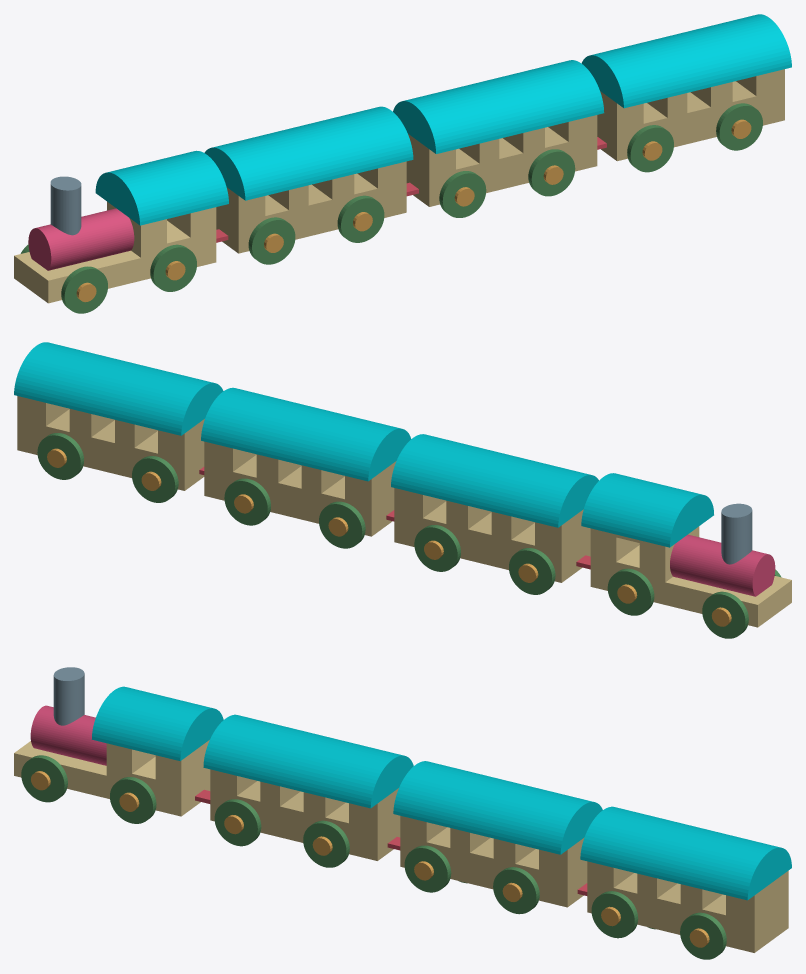
File: 3D TRAIN.glb
3 renders of one model, top to bottom at view 1: azimuth 30°, elevation 25°; view 2: azimuth 150°, elevation 25°; view 3: azimuth 330°, elevation 25°, orthographic.
Visible parts, largest first — view 1: Mesh_Mesh_head_geo.001_lambert2SG.001; view 2: Mesh_Mesh_head_geo.001_lambert2SG.001; view 3: Mesh_Mesh_head_geo.001_lambert2SG.001.
Boxes of the visible parts, x1,y1,x2,y2 form: Mesh_Mesh_head_geo.001_lambert2SG.001: (14, 14, 791, 313); Mesh_Mesh_head_geo.001_lambert2SG.001: (14, 342, 791, 638); Mesh_Mesh_head_geo.001_lambert2SG.001: (14, 667, 791, 959).
Size of the model in its own units: 374 by 57 by 45.
